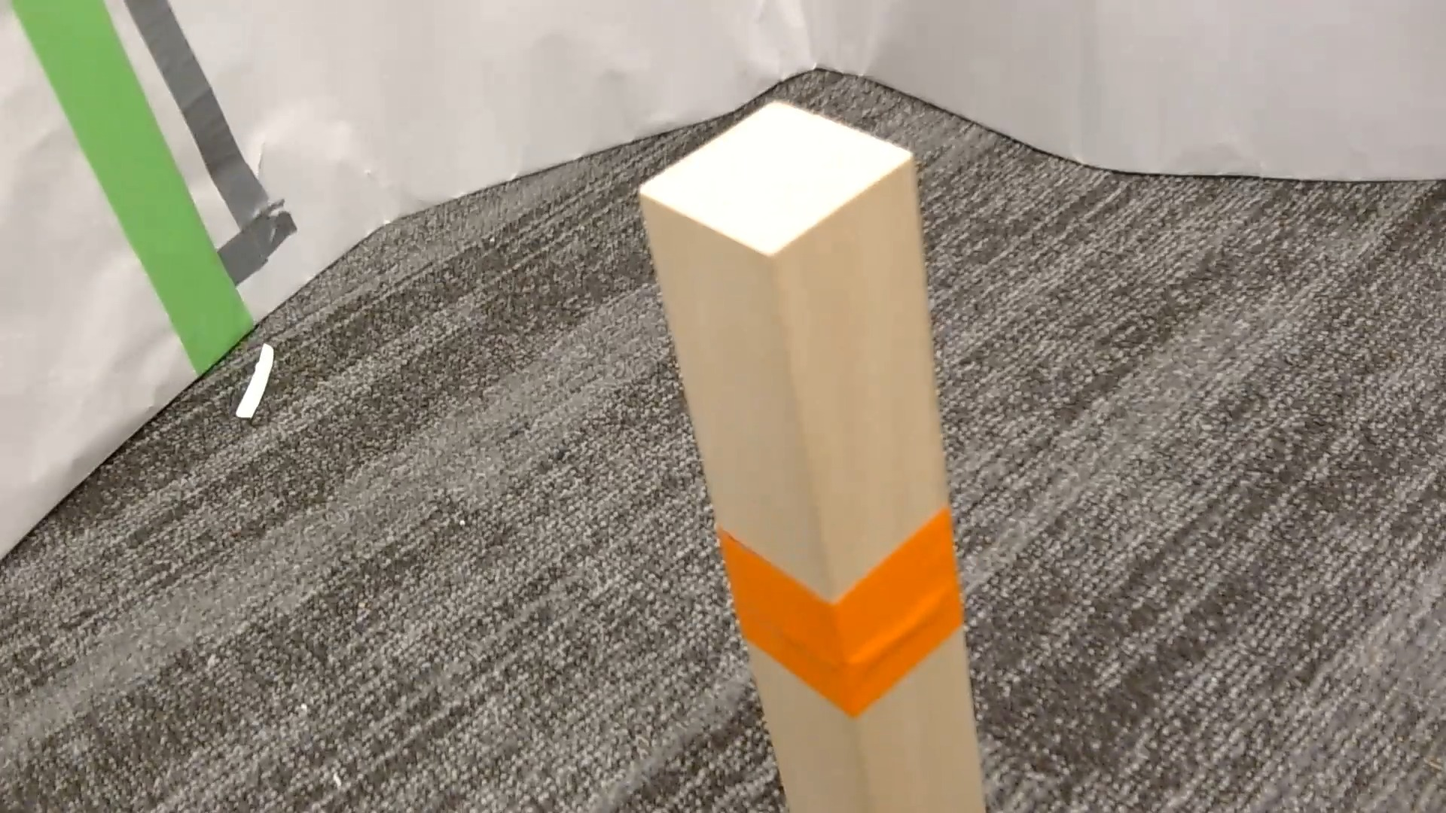Wooden Block: (640, 102, 984, 812)
